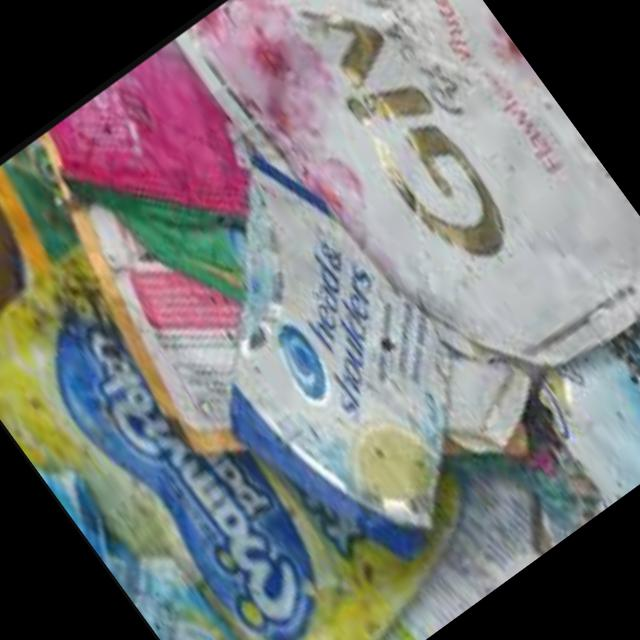KemasanPlastik: (0, 145, 517, 640), (166, 0, 640, 456), (111, 120, 554, 600)
